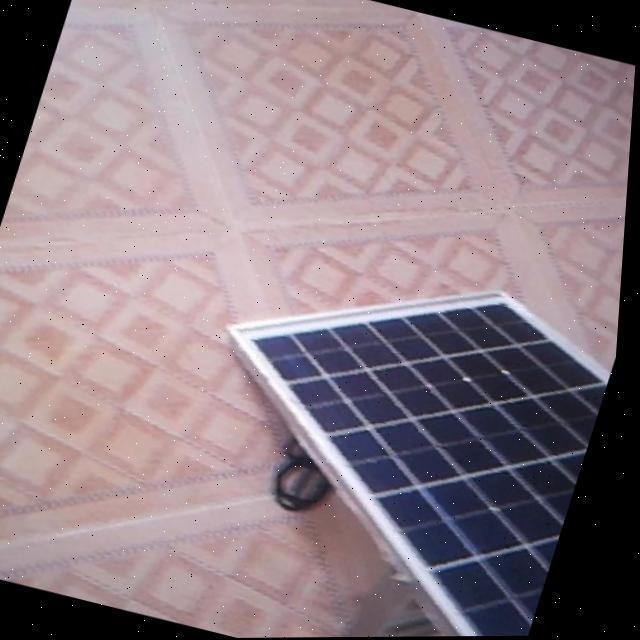Normal Solar Panel: (145, 229, 628, 639)
